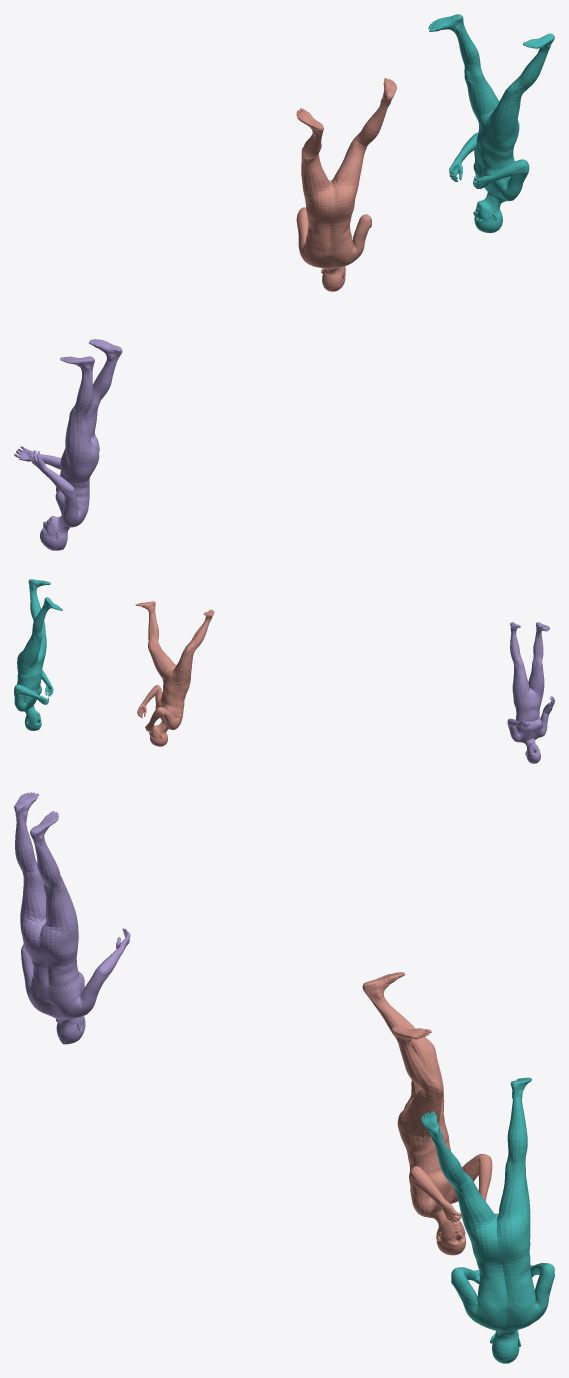
The model's file is all_people_native_world.glb.
3 renders of one model, top to bottom at view 1: azimuth 30°, elevation 25°; view 2: azimuth 150°, elevation 25°; view 3: azimuth 270°, elevation 25°, orthographic. The views are drawn at different scales.
Parts seen in each view (by area): view 1: persistent_id_1_slot_1, persistent_id_0_slot_0, persistent_id_2_slot_2; view 2: persistent_id_0_slot_0, persistent_id_2_slot_2, persistent_id_1_slot_1; view 3: persistent_id_1_slot_1, persistent_id_2_slot_2, persistent_id_0_slot_0.
Part boxes in pixels (<box>): persistent_id_1_slot_1: <box>428,14,554,233</box>; persistent_id_0_slot_0: <box>296,78,396,291</box>; persistent_id_2_slot_2: <box>14,339,122,550</box>; persistent_id_0_slot_0: <box>135,601,214,746</box>; persistent_id_2_slot_2: <box>507,622,554,763</box>; persistent_id_1_slot_1: <box>14,579,62,730</box>; persistent_id_1_slot_1: <box>420,1077,554,1363</box>; persistent_id_2_slot_2: <box>14,792,130,1044</box>; persistent_id_0_slot_0: <box>362,972,492,1255</box>.
Size of the model in its own units: 5.59 by 2 by 3.2.
